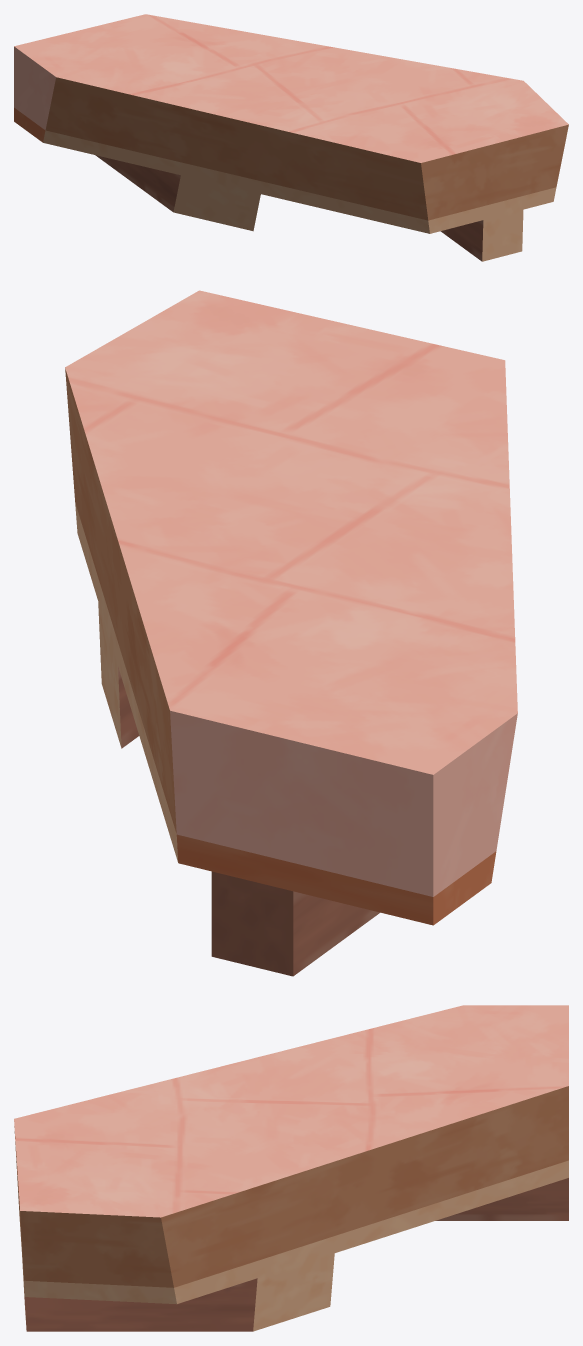
The model's file is floor_s03.fbx.
The picture shows the model from 3 angles, top to bottom: view 1: azimuth 30°, elevation 25°; view 2: azimuth 150°, elevation 25°; view 3: azimuth 270°, elevation 25°; orthographic projection. The views are drawn at different scales.
Visible parts, largest first — view 1: floor_s03; view 2: floor_s03; view 3: floor_s03.
Boxes of the visible parts, x1=… form: floor_s03: x1=14, y1=14, x2=568, y2=261; floor_s03: x1=65, y1=290, x2=517, y2=976; floor_s03: x1=14, y1=1005, x2=568, y2=1331.
Size of the model in its own units: 5.11 by 1.66 by 5.65.
